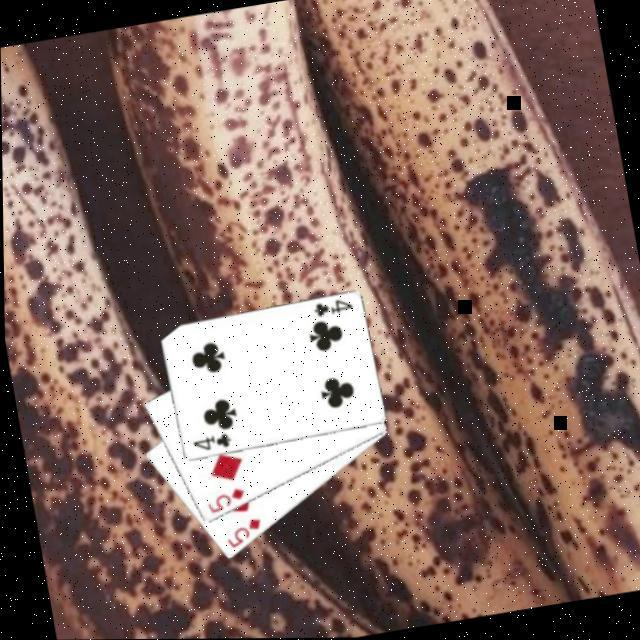4C: (309, 295, 356, 323), (188, 431, 233, 457)
5D: (220, 515, 266, 552), (202, 485, 250, 518)
